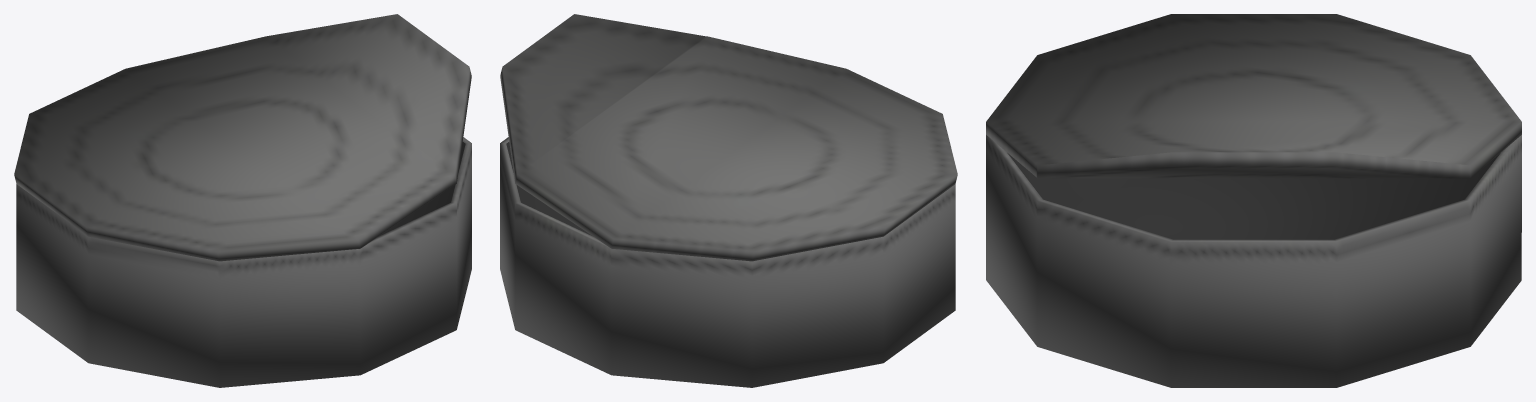
File: TouristDelightTrash.fbx
3 renders of one model, left to right at view 1: azimuth 30°, elevation 25°; view 2: azimuth 150°, elevation 25°; view 3: azimuth 270°, elevation 25°, orthographic. The views are drawn at different scales.
Visible parts, largest first — view 1: Cylinder; view 2: Cylinder; view 3: Cylinder.
Part boxes in pixels (box(x1,y1,x2,y2)): Cylinder: box(14, 14, 471, 387); Cylinder: box(500, 14, 957, 387); Cylinder: box(986, 14, 1521, 387).
Size of the model in its own units: 0.2044 by 0.1031 by 0.2136.
